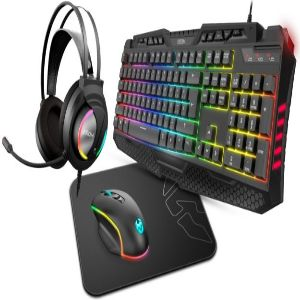headset: (1, 1, 108, 177)
keyboard: (111, 25, 294, 194)
mouse: (88, 189, 152, 262)
